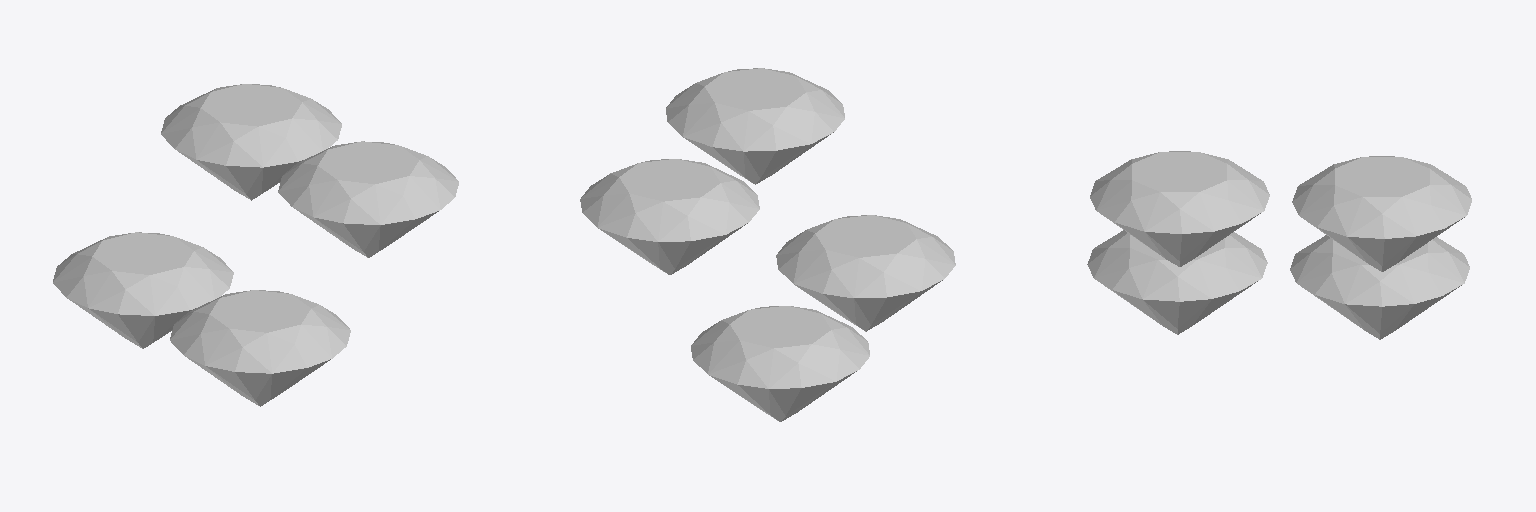
Rendered from quaddiamond.obj.
3 views of the same model, side by side, from view 1: azimuth 30°, elevation 25°; view 2: azimuth 150°, elevation 25°; view 3: azimuth 270°, elevation 25° (orthographic).
Size of the model in its own units: 3.55 by 2.76 by 4.21.